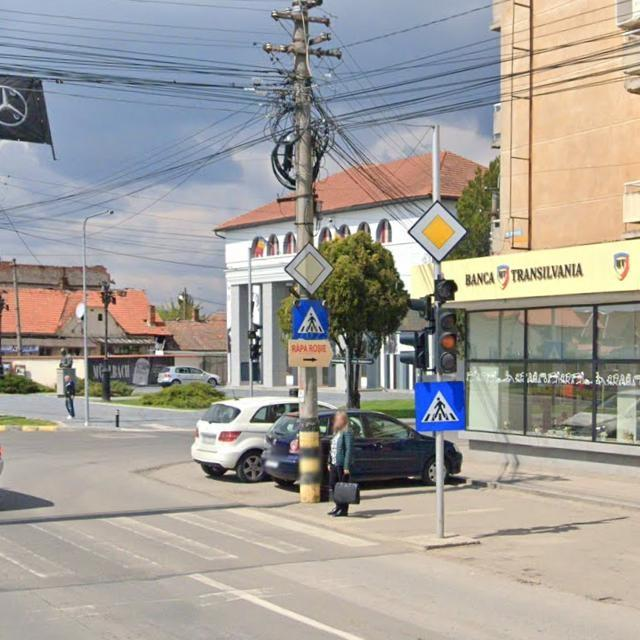info_crosswalk: (415, 380, 466, 431), (293, 300, 329, 341)
